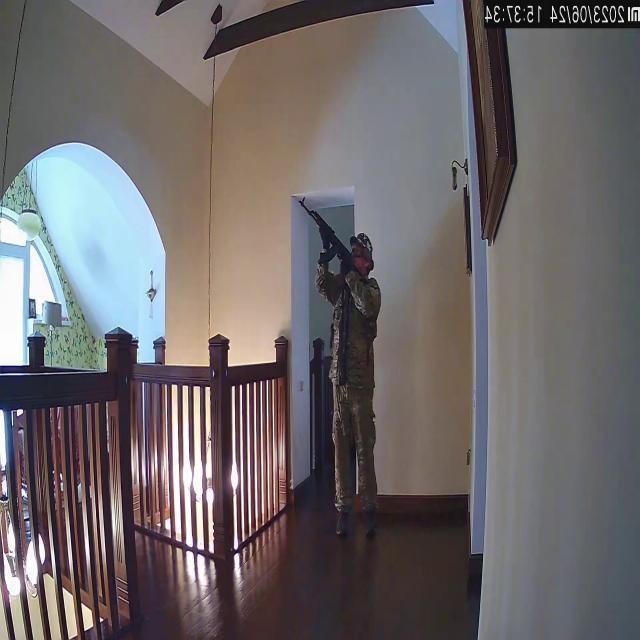pistol: (296, 198, 365, 268)
